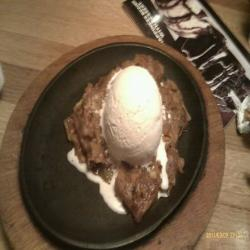apple_pie: (62, 50, 196, 230)
icecream: (98, 67, 170, 175)
